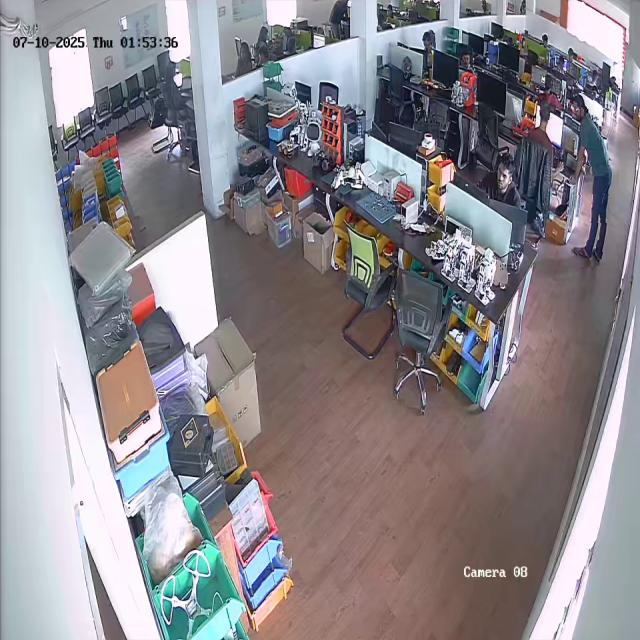person: (572, 93, 616, 267)
